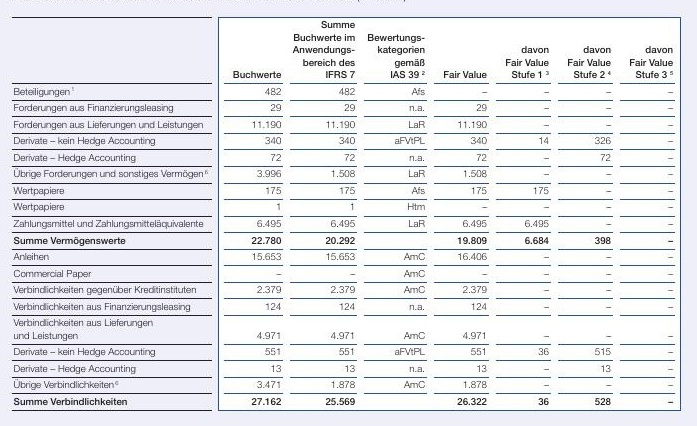table: (0, 0, 697, 426)
